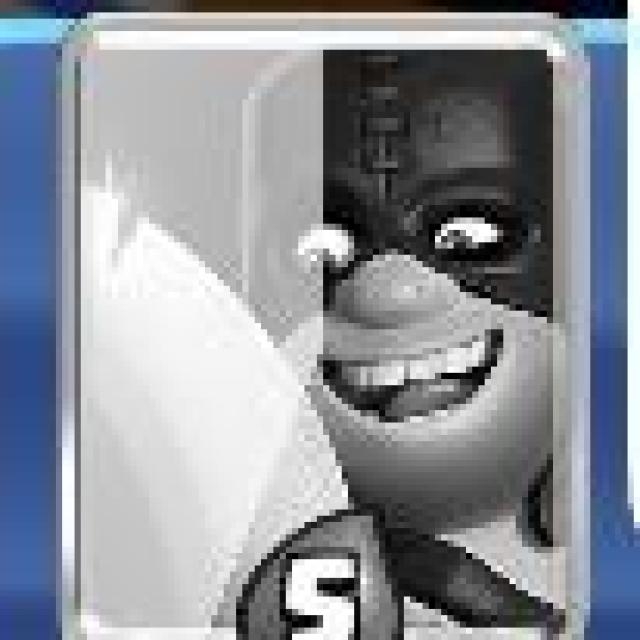Executioner: (58, 17, 586, 640)
